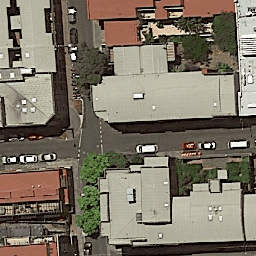car: (135, 143, 159, 153), (227, 140, 249, 149), (19, 154, 38, 163), (67, 6, 76, 24), (198, 141, 216, 150), (38, 153, 57, 161), (1, 155, 17, 164), (69, 28, 78, 44), (69, 46, 78, 62), (8, 132, 25, 140), (28, 132, 44, 140), (83, 242, 92, 256), (181, 142, 197, 149), (1, 132, 5, 143)
